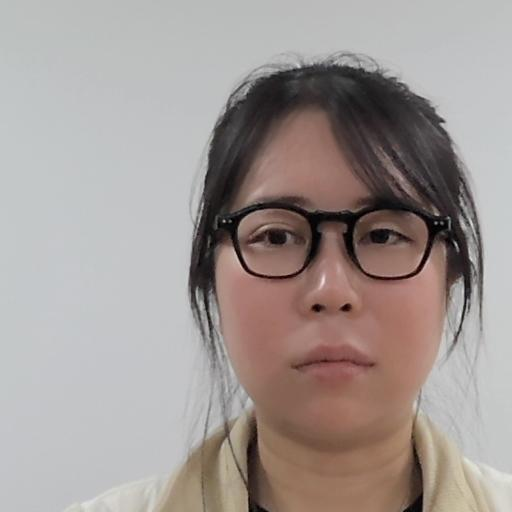no_glasses: (196, 65, 477, 419)
